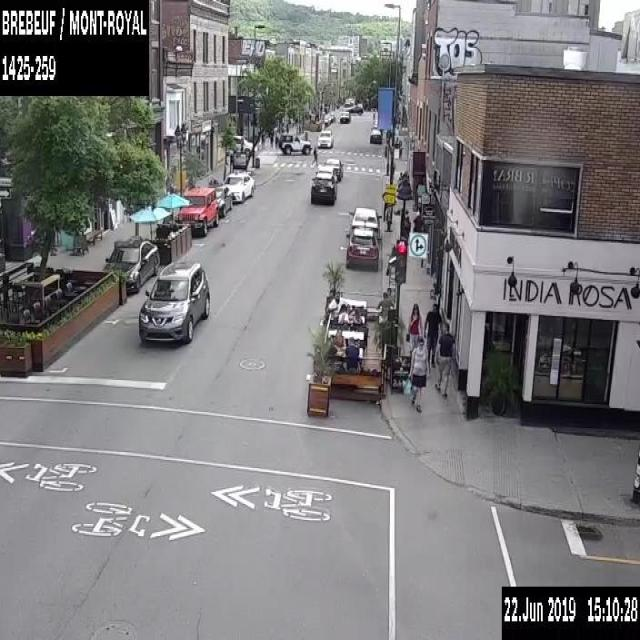cyclist: (381, 183, 396, 233)
pedestrian: (406, 338, 427, 412), (435, 324, 456, 394), (424, 300, 441, 370), (406, 303, 424, 369), (342, 336, 359, 372), (376, 290, 394, 320), (328, 289, 347, 316), (332, 328, 346, 347), (338, 303, 350, 322), (412, 211, 422, 229), (309, 146, 318, 166), (352, 307, 362, 324), (403, 213, 409, 235), (259, 131, 265, 149), (370, 107, 376, 125), (274, 134, 278, 149), (269, 133, 273, 148), (386, 287, 391, 296)
vehicle: (137, 261, 211, 344), (103, 238, 159, 293), (176, 187, 218, 236), (345, 227, 380, 270), (201, 185, 232, 218), (351, 206, 382, 238), (222, 171, 252, 204), (276, 130, 313, 154), (308, 175, 335, 205), (323, 158, 344, 180), (315, 167, 336, 186), (234, 133, 252, 152), (317, 129, 334, 148), (367, 125, 382, 143), (346, 104, 362, 115), (339, 110, 349, 124)
